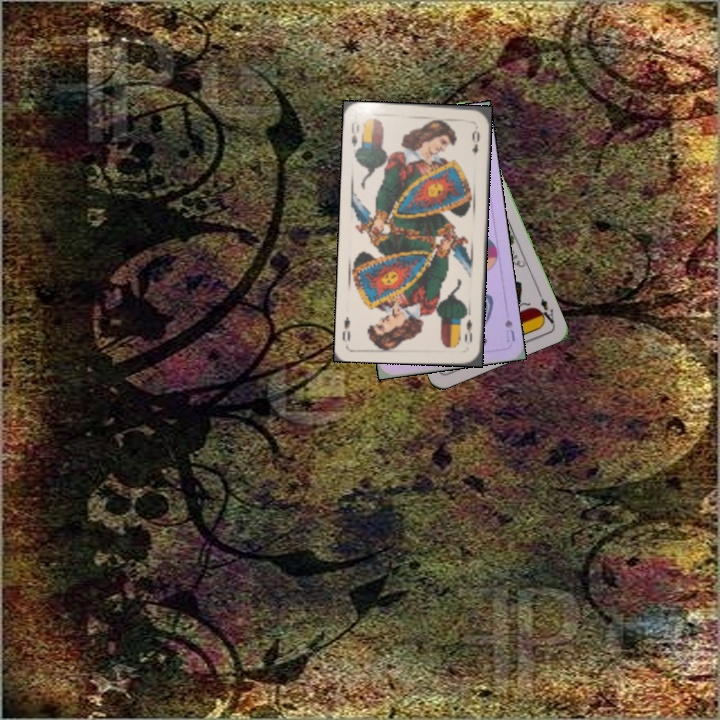EA: (534, 295, 557, 327)
EO: (347, 117, 362, 149), (461, 316, 475, 345)
SU: (501, 316, 518, 345)
